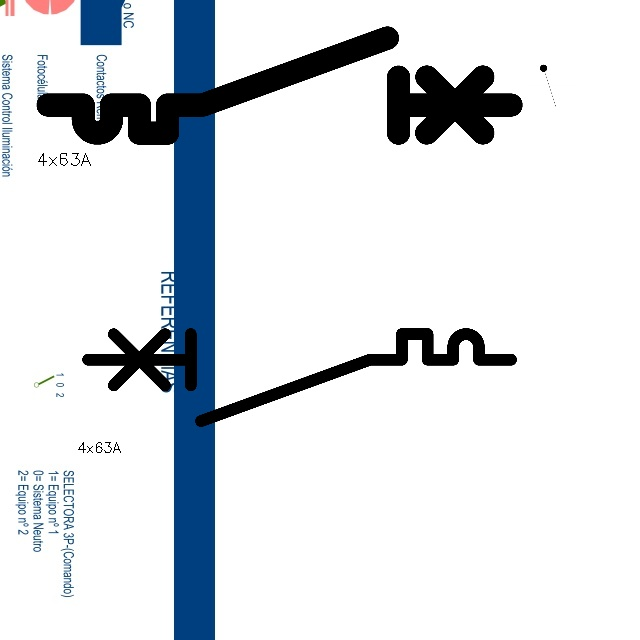interruptor_termomagnetico: (36, 26, 523, 145), (77, 323, 522, 432)
